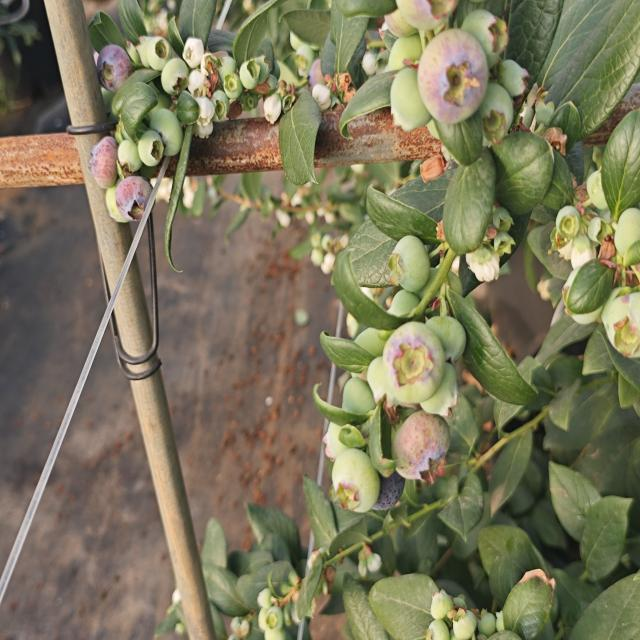ripe: (364, 450, 413, 521)
